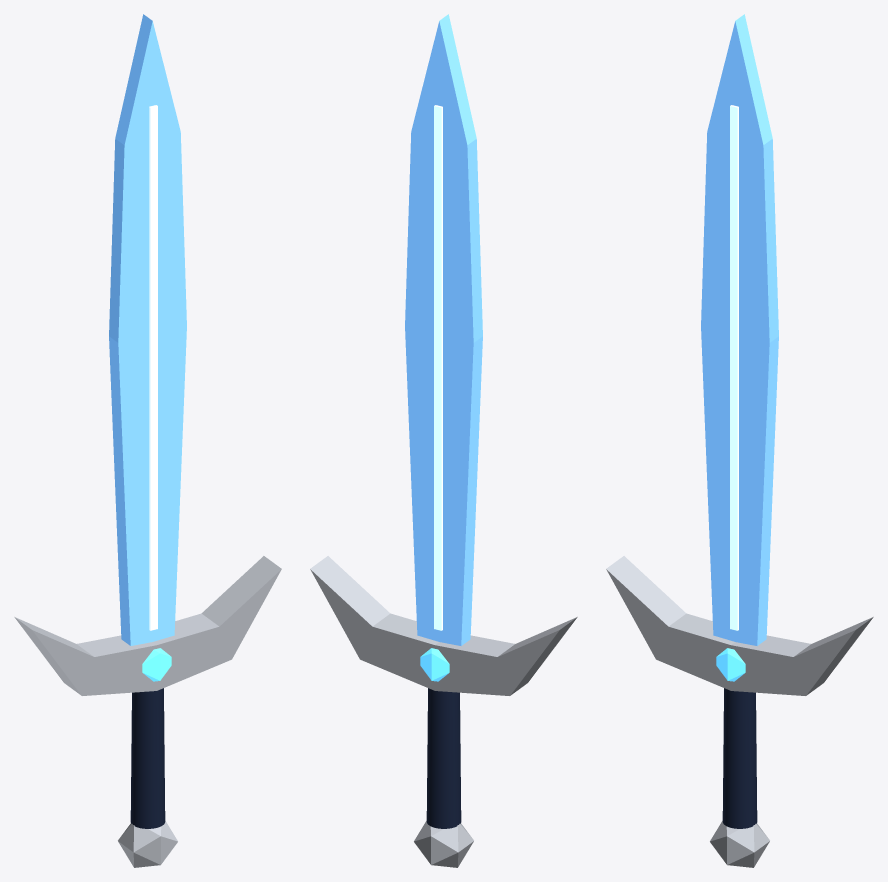
The model's file is sword_of_revolution.glb.
3 renders of one model, left to right at view 1: azimuth 30°, elevation 25°; view 2: azimuth 150°, elevation 25°; view 3: azimuth 330°, elevation 25°, orthographic.
Parts seen in each view (by area): view 1: sr_blade, sr_guard, sr_ridge, sr_grip, sr_pommel, sr_gem; view 2: sr_blade, sr_guard, sr_ridge, sr_grip, sr_pommel, sr_gem; view 3: sr_blade, sr_guard, sr_ridge, sr_grip, sr_pommel, sr_gem.
Part boxes in pixels (bbox=[...]): sr_blade: bbox=[109, 14, 186, 645]; sr_guard: bbox=[14, 556, 281, 695]; sr_ridge: bbox=[149, 105, 157, 630]; sr_grip: bbox=[130, 688, 165, 828]; sr_pommel: bbox=[118, 821, 177, 867]; sr_gem: bbox=[142, 648, 171, 681]; sr_blade: bbox=[405, 14, 482, 645]; sr_guard: bbox=[310, 556, 577, 695]; sr_ridge: bbox=[434, 105, 442, 630]; sr_grip: bbox=[426, 688, 461, 828]; sr_pommel: bbox=[414, 821, 473, 867]; sr_gem: bbox=[420, 648, 449, 681]; sr_blade: bbox=[701, 14, 778, 645]; sr_guard: bbox=[606, 556, 873, 695]; sr_ridge: bbox=[730, 105, 738, 630]; sr_grip: bbox=[722, 688, 757, 828]; sr_pommel: bbox=[710, 821, 769, 867]; sr_gem: bbox=[716, 648, 745, 681].
Bounding box in the file's own units: 0.4 × 1.3 × 0.0715.
